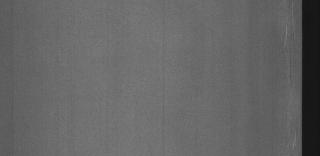silk spot: (276, 11, 296, 53), (286, 126, 300, 152)
